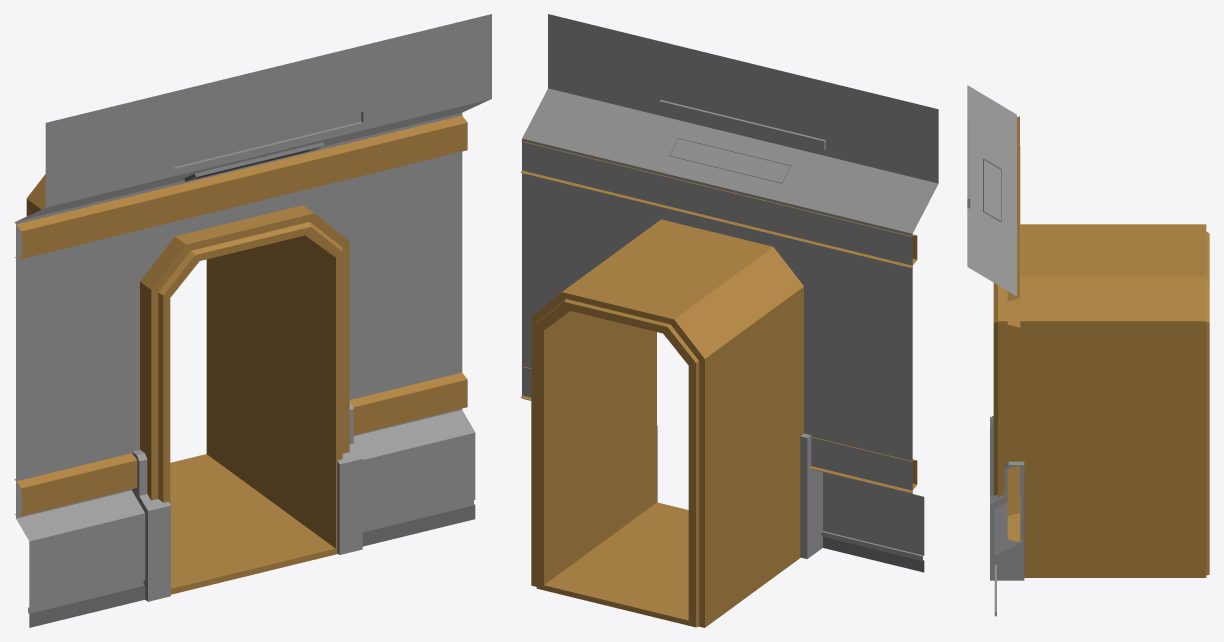
File: DoorSingleLong_Wall_SideA.fbx
The picture shows the model from 3 angles, left to right: view 1: azimuth 30°, elevation 25°; view 2: azimuth 150°, elevation 25°; view 3: azimuth 270°, elevation 25°; orthographic projection. The views are drawn at different scales.
Visible parts, largest first — view 1: DoorSingleLong_Wall_SideA; view 2: DoorSingleLong_Wall_SideA; view 3: DoorSingleLong_Wall_SideA.
Boxes of the visible parts, x1,y1,x2,y2 form: DoorSingleLong_Wall_SideA: (14, 14, 491, 627); DoorSingleLong_Wall_SideA: (520, 14, 938, 627); DoorSingleLong_Wall_SideA: (967, 85, 1209, 616).
Size of the model in its own units: 400 by 444 by 225.
